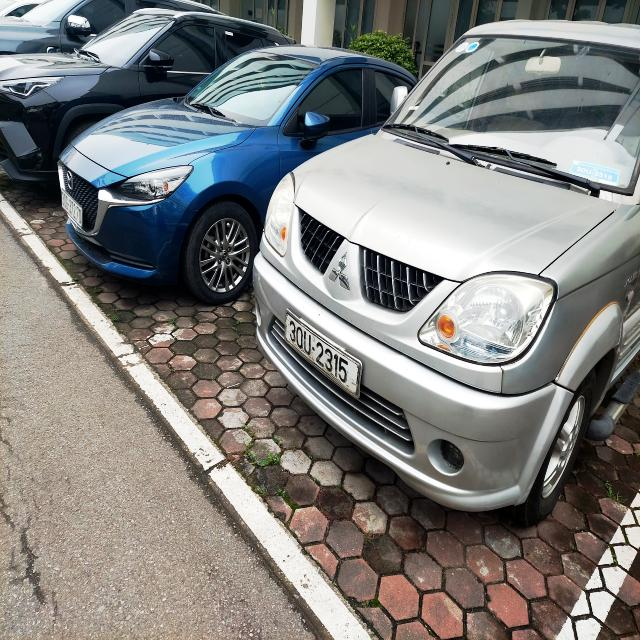license_plate: (286, 311, 362, 399), (62, 189, 83, 228)
